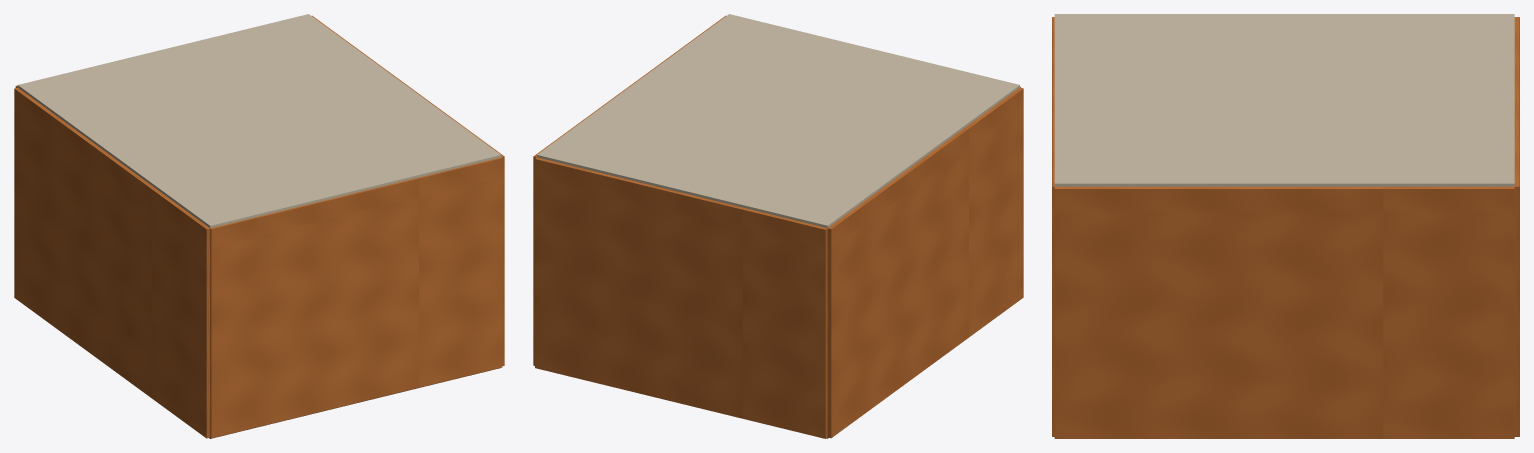
The model's file is scene-1-3dcodeverse.glb.
3 views of the same model, side by side, from view 1: azimuth 30°, elevation 25°; view 2: azimuth 150°, elevation 25°; view 3: azimuth 270°, elevation 25° (orthographic). The views are drawn at different scales.
Parts seen in each view (by area): view 1: RoomShellRear, Ceiling, RoomShellLeft, RoomShellRight; view 2: RoomShellBack, Ceiling, RoomShellLeft, RoomShellRight; view 3: RoomShellRight, Ceiling, RoomShellBack, RoomShellRear.
Part boxes in pixels (x1,y1,x2,y2): RoomShellRear: (210,157,502,438); Ceiling: (17,14,501,228); RoomShellLeft: (14,87,210,438); RoomShellRight: (312,15,504,366); RoomShellBack: (535,157,827,438); Ceiling: (537,14,1019,228); RoomShellLeft: (827,87,1023,438); RoomShellRight: (533,15,725,365); RoomShellRight: (1054,186,1514,438); Ceiling: (1054,14,1514,186); RoomShellBack: (1514,17,1519,436); RoomShellRear: (1052,17,1054,436).
Bounding box in the file's own units: 4.92 × 3.36 × 5.59.
Materials: 27 (10 with a texture image).
